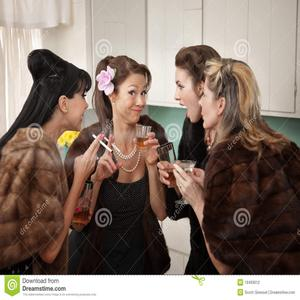cigarette: (92, 134, 116, 154), (102, 135, 122, 155)
